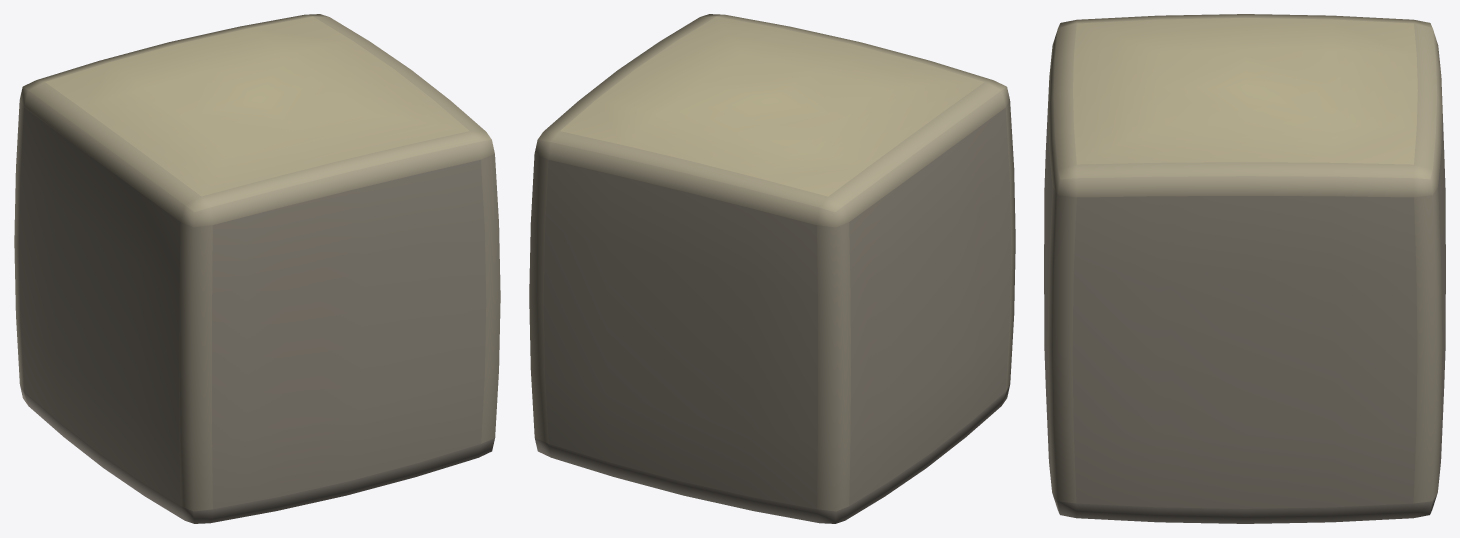
File: block_stone3_3_LOD_setup.fbx
The picture shows the model from 3 angles, left to right: view 1: azimuth 30°, elevation 25°; view 2: azimuth 150°, elevation 25°; view 3: azimuth 270°, elevation 25°; orthographic projection. The views are drawn at different scales.
Parts seen in each view (by area): view 1: block_stone3_3_LOD0; view 2: block_stone3_3_LOD0; view 3: block_stone3_3_LOD0.
Boxes of the visible parts, x1=… form: block_stone3_3_LOD0: x1=14, y1=14, x2=500, y2=523; block_stone3_3_LOD0: x1=529, y1=14, x2=1015, y2=523; block_stone3_3_LOD0: x1=1044, y1=14, x2=1445, y2=523.
Size of what is drawn, in the model's own units: 109 by 109 by 109.
